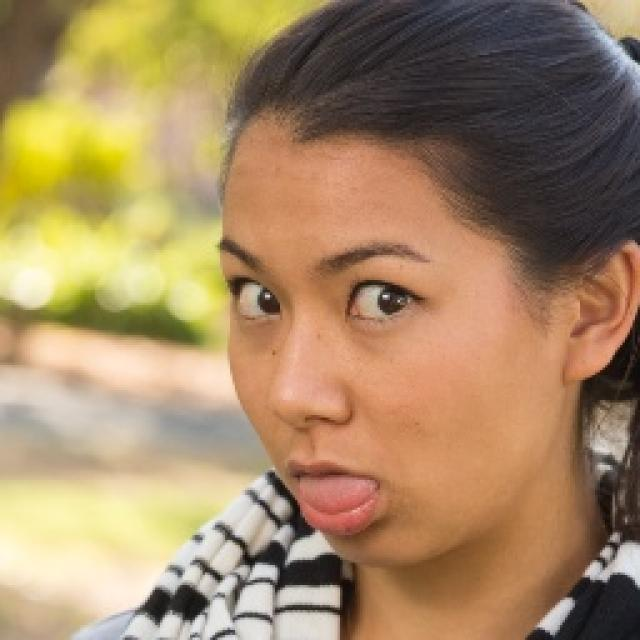earlobe: (562, 343, 614, 383)
eye: (345, 286, 426, 321), (235, 283, 284, 322)
nose: (279, 413, 351, 457)
wholeear: (560, 240, 640, 382)
